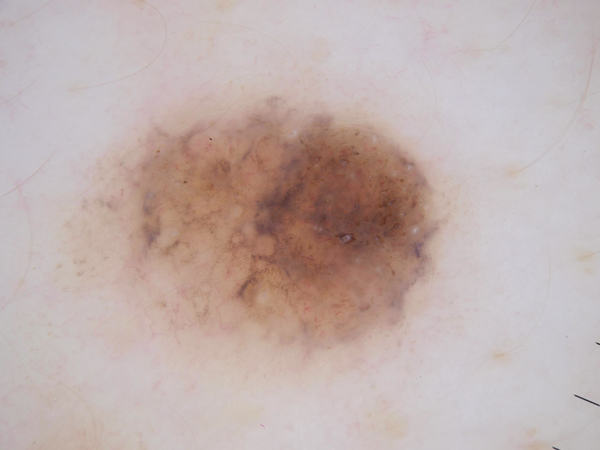Detected Lesion: (63, 93, 449, 372)
